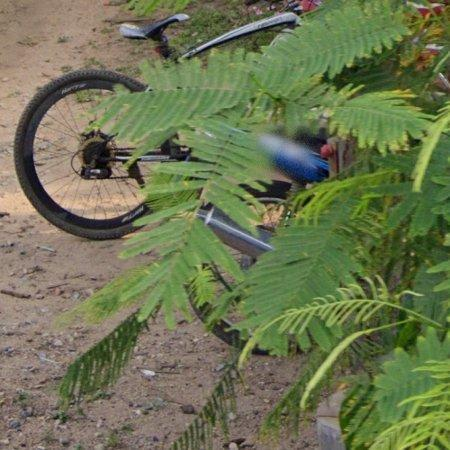bicycles: (15, 69, 148, 239), (182, 12, 300, 58), (122, 14, 189, 57)
